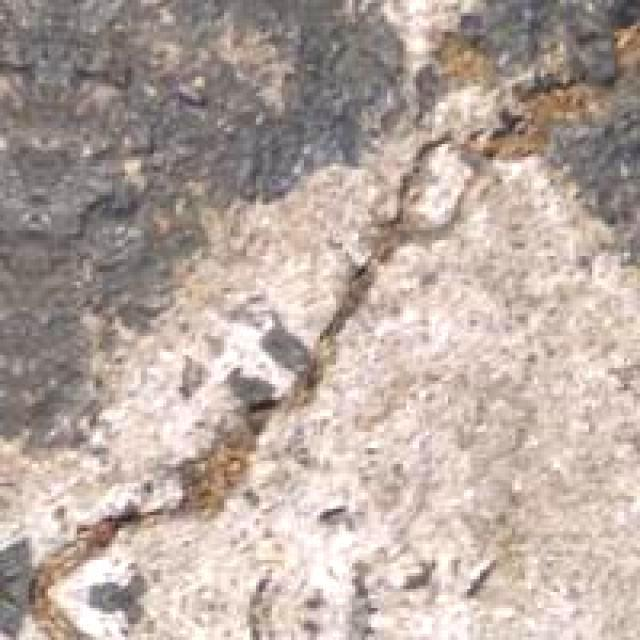SurfaceCrack: (48, 164, 476, 590)
